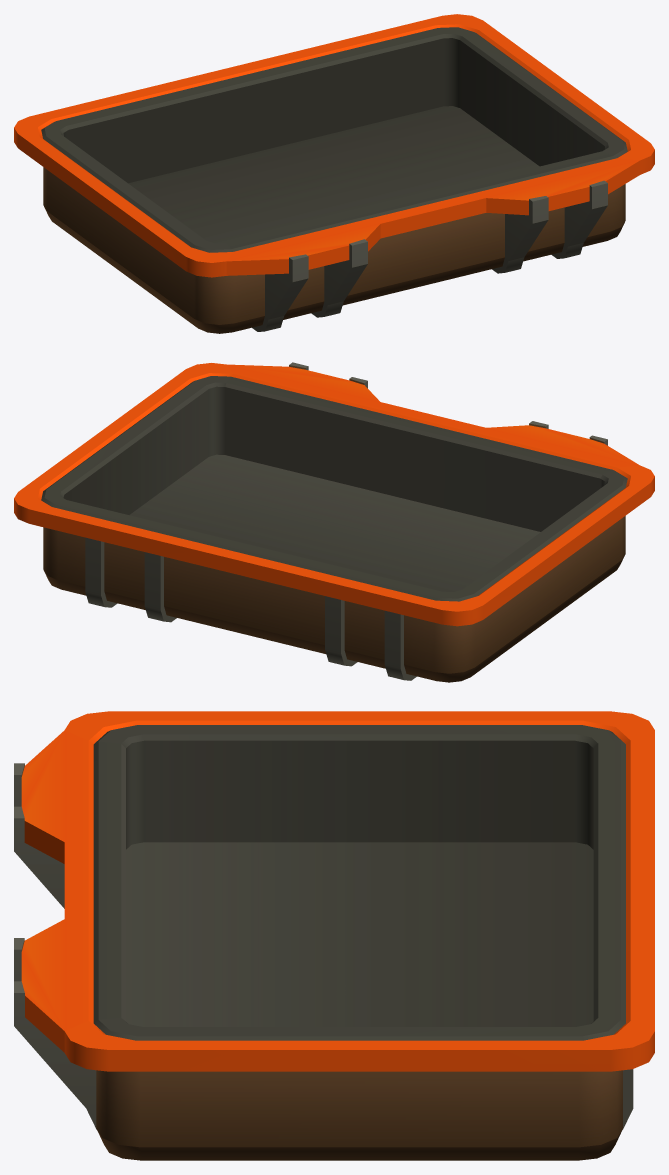
File: Container_05.fbx
3 renders of one model, top to bottom at view 1: azimuth 30°, elevation 25°; view 2: azimuth 150°, elevation 25°; view 3: azimuth 270°, elevation 25°, orthographic. The views are drawn at different scales.
Parts seen in each view (by area): view 1: Container_05; view 2: Container_05; view 3: Container_05.
Part boxes in pixels (x1,y1,x2,y2): Container_05: [14, 14, 654, 333]; Container_05: [14, 362, 654, 682]; Container_05: [14, 711, 654, 1160].
Size of the model in its own units: 67.19 by 13.46 by 53.72.
